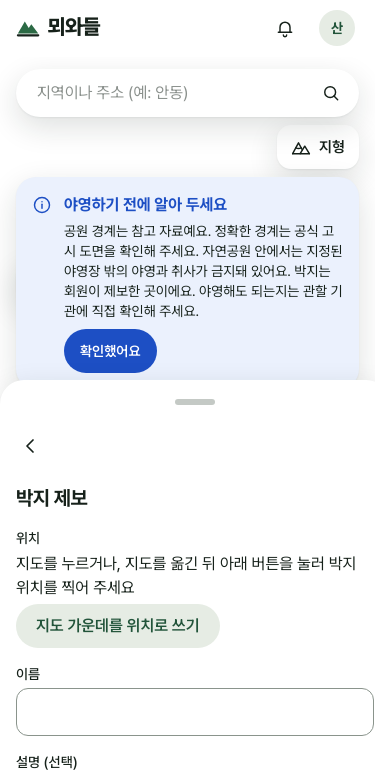
Test: 박지 제보 위치를 키보드로 찍기 › 휴대폰에서 시트가 지도를 다 덮으면 가운데 버튼을 숨긴다
Click the button named "시트 크기 바꾸기, 지금 절반" at (195,402), box [0,380,389,424]
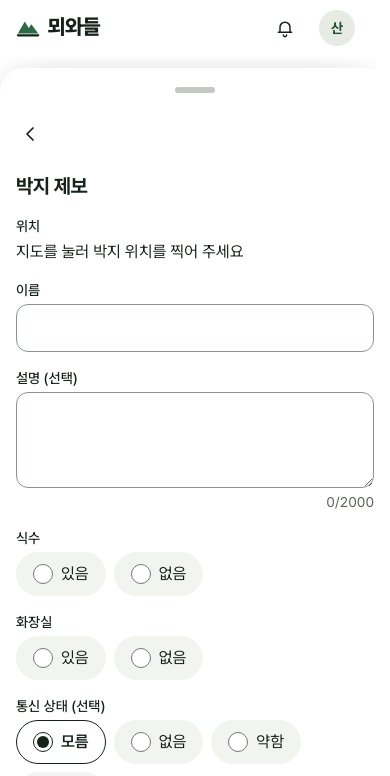
Result: the text "지도를 눌러 박지 위치를 찍어 주세요" is shown at [16,242,244,260]
Click the button named "시트 크기 바꾸기, 지금 전체" at (195,90), box [0,68,389,112]
(page scrolled)
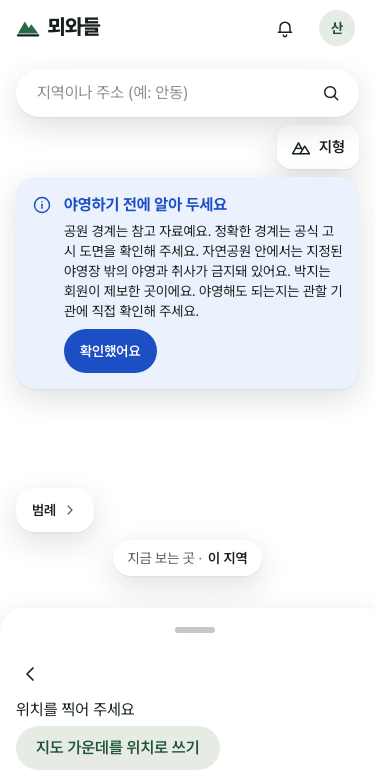
Result: the button "지도 가운데를 위치로 쓰기" is shown at [16,726,220,770]
